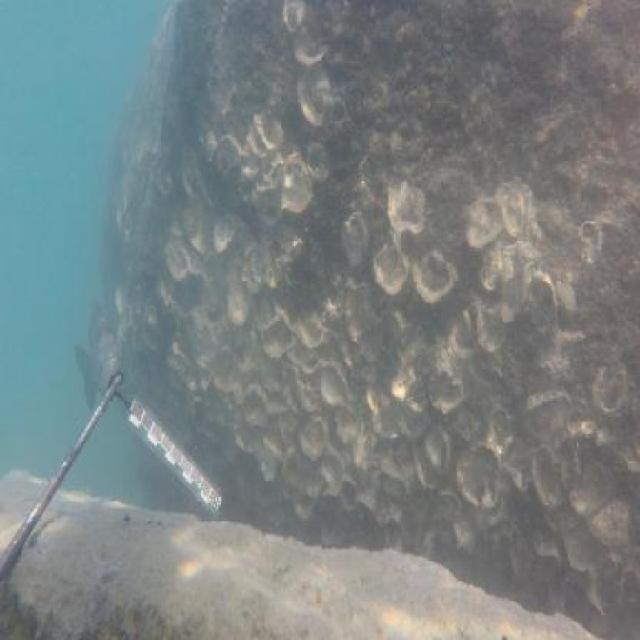acanthopagrus_palmaris: (73, 296, 122, 416)
